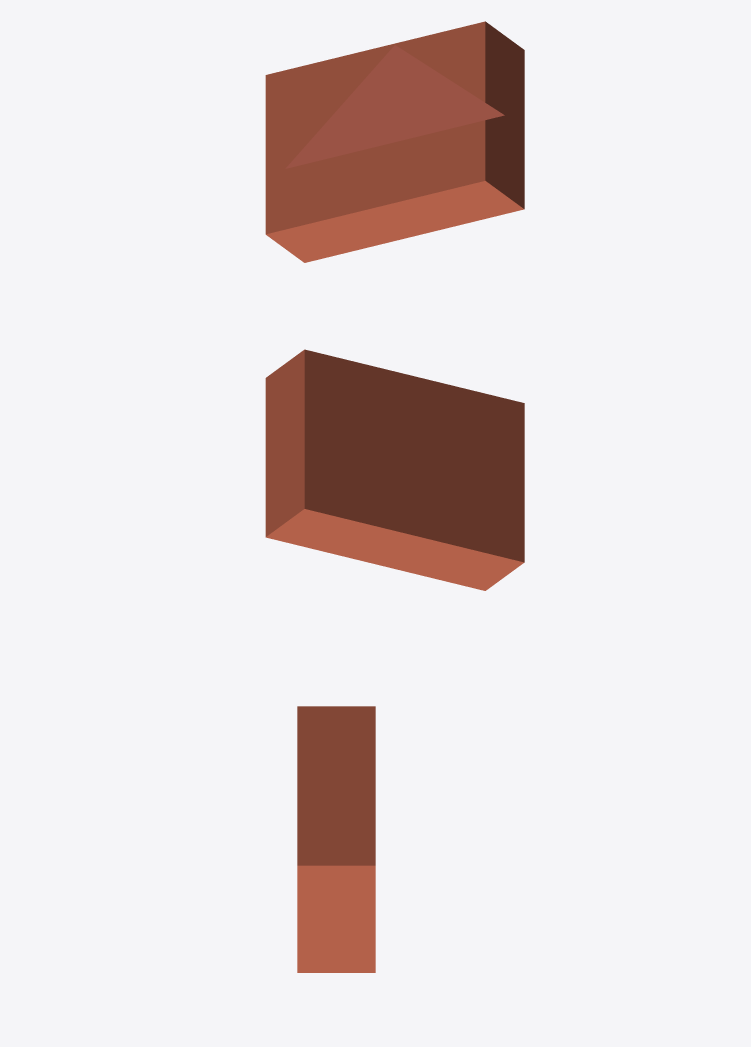
File: mail.glb
The picture shows the model from 3 angles, top to bottom: view 1: azimuth 30°, elevation 25°; view 2: azimuth 150°, elevation 25°; view 3: azimuth 270°, elevation 25°; orthographic projection.
Parts seen in each view (by area): view 1: envelope-node, flap-node; view 2: envelope-node; view 3: envelope-node.
Part boxes in pixels (left/top/right/bottom): envelope-node: left=265, top=21, right=524, bottom=262; flap-node: left=285, top=45, right=504, bottom=168; envelope-node: left=265, top=349, right=524, bottom=590; envelope-node: left=297, top=706, right=375, bottom=972.
Bounding box in the file's own units: 3.7 × 1 × 3.7.
